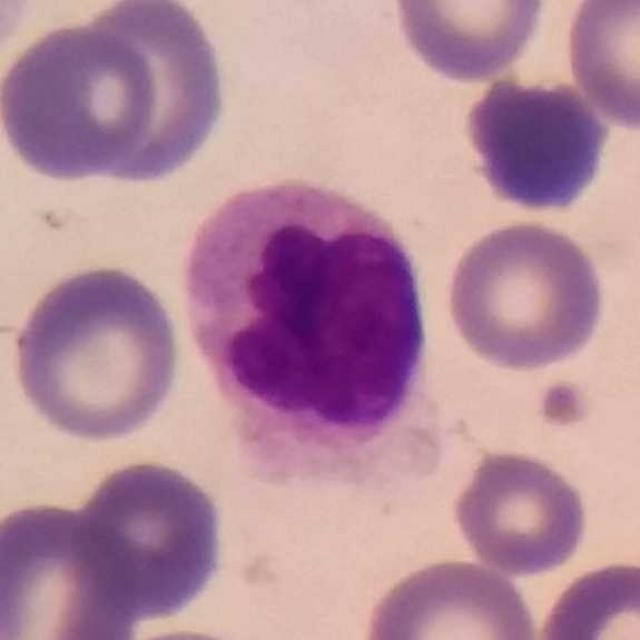Monocyte: (178, 170, 439, 468)
Platelets: (534, 377, 590, 431)
RBC: (7, 259, 186, 446), (59, 0, 233, 190), (67, 454, 230, 625), (0, 17, 163, 187), (441, 217, 610, 375), (457, 70, 618, 218), (0, 496, 141, 639), (449, 445, 593, 579), (358, 553, 544, 640), (386, 0, 553, 85), (560, 0, 640, 132), (534, 555, 640, 640)
